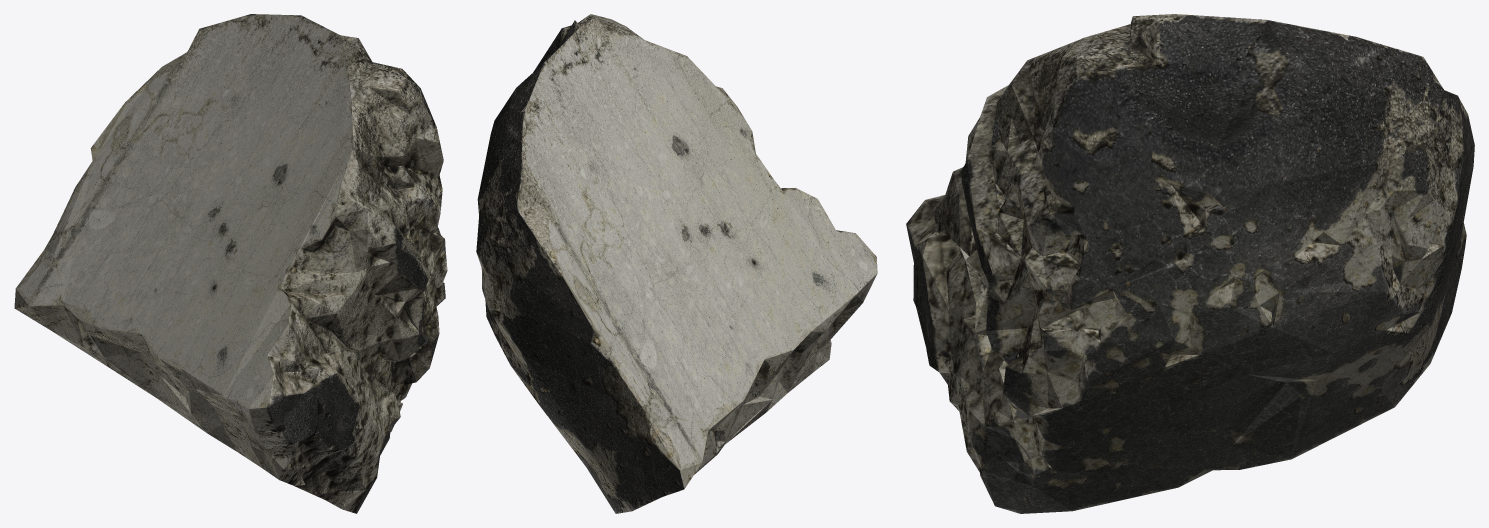
Rendered from EET79001-2.fbx.
3 renders of one model, left to right at view 1: azimuth 30°, elevation 25°; view 2: azimuth 150°, elevation 25°; view 3: azimuth 270°, elevation 25°, orthographic. The views are drawn at different scales.
Parts seen in each view (by area): view 1: EET79001-2; view 2: EET79001-2; view 3: EET79001-2.
Part boxes in pixels (left/top/right/bottom): EET79001-2: left=14, top=14, right=447, bottom=513; EET79001-2: left=476, top=14, right=877, bottom=513; EET79001-2: left=906, top=14, right=1474, bottom=513.
Size of the model in its own units: 115 by 166 by 162.
